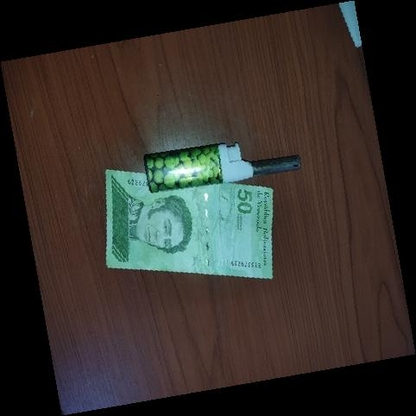fifty-front-vef: (105, 169, 273, 279)
